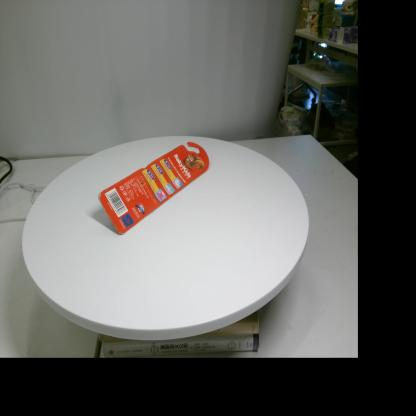Personal Hygiene: (98, 142, 210, 235)
